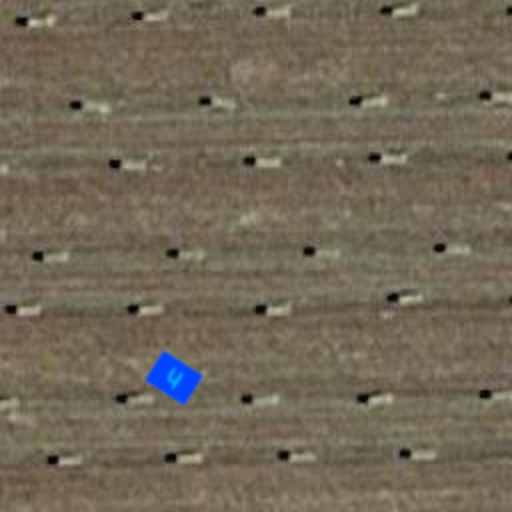rectangle: (140, 344, 208, 412)
